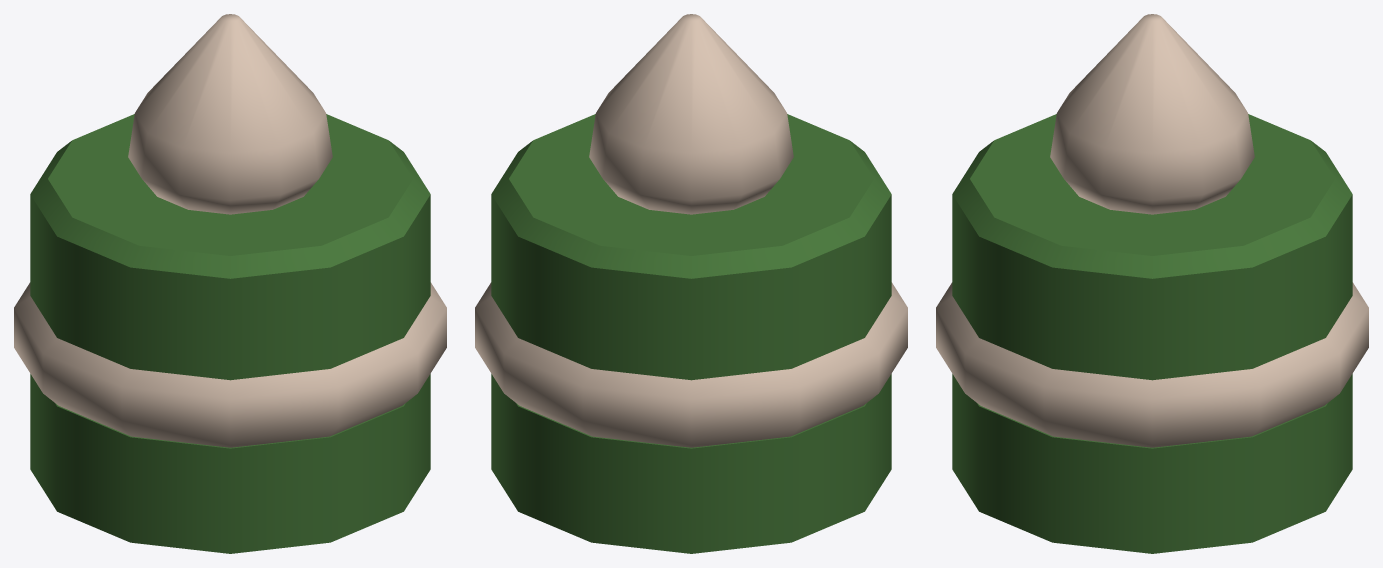
File: GreenCake_01.fbx
The picture shows the model from 3 angles, left to right: view 1: azimuth 30°, elevation 25°; view 2: azimuth 150°, elevation 25°; view 3: azimuth 270°, elevation 25°; orthographic projection.
Parts seen in each view (by area): view 1: GreenCake_01; view 2: GreenCake_01; view 3: GreenCake_01.
Part boxes in pixels (box(x1,y1,x2,y2)): GreenCake_01: box(14, 14, 446, 553); GreenCake_01: box(475, 14, 907, 553); GreenCake_01: box(936, 14, 1368, 553).
Bounding box in the file's own units: 0.1343 × 0.1545 × 0.1343.
